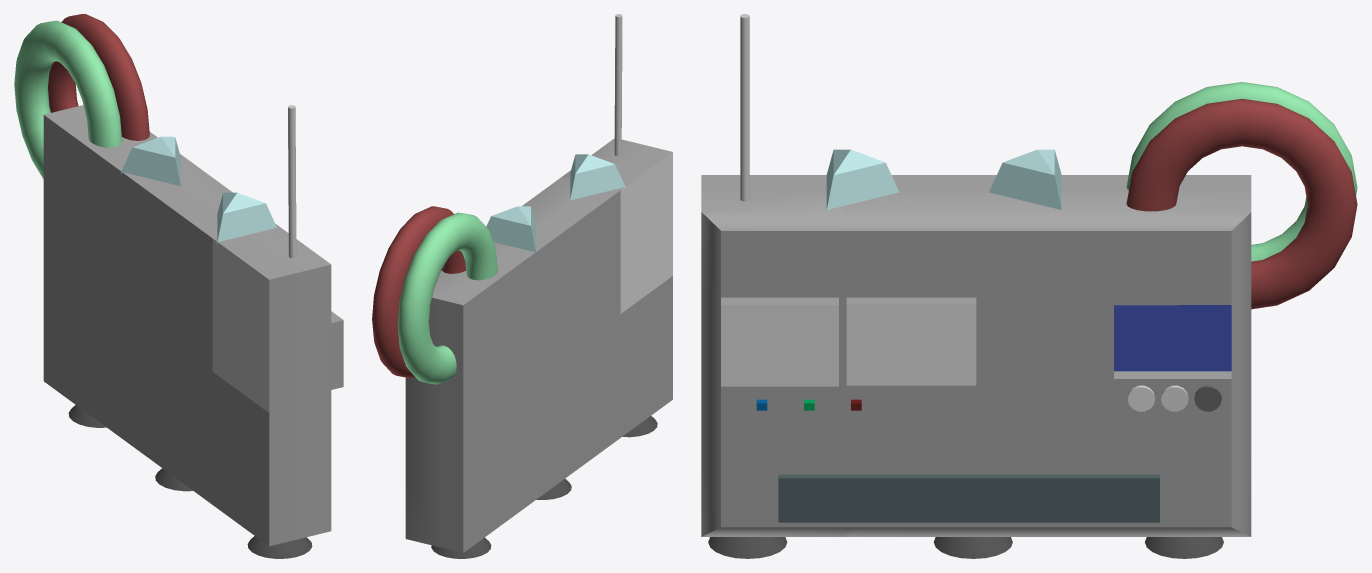
File: LotionCaptureModulator.fbx
The picture shows the model from 3 angles, left to right: view 1: azimuth 30°, elevation 25°; view 2: azimuth 150°, elevation 25°; view 3: azimuth 270°, elevation 25°; orthographic projection. The views are drawn at different scales.
Parts seen in each view (by area): view 1: LotionCaptureModulator2, LotionCaptureModulator:pTorus1, LotionCaptureModulator:pTorus2, LotionCaptureModulator:pSphere1, LotionCaptureModulator:pSphere2, LotionCaptureModulator:pCylinder4, LotionCaptureModulator:pCone1, LotionCaptureModulator:pCone3, LotionCaptureModulator:pCone2; view 2: LotionCaptureModulator2, LotionCaptureModulator:pTorus1, LotionCaptureModulator:pTorus2, LotionCaptureModulator:pSphere1, LotionCaptureModulator:pSphere2, LotionCaptureModulator:pCylinder4, LotionCaptureModulator:pCone2; view 3: LotionCaptureModulator2, LotionCaptureModulator:pTorus2, LotionCaptureModulator:pCube5, LotionCaptureModulator:pTorus1, LotionCaptureModulator:pSphere1, LotionCaptureModulator:pSphere2, LotionCaptureModulator:pCylinder4, LotionCaptureModulator:pCone1, LotionCaptureModulator:pCone2, LotionCaptureModulator:pCone3.
Part boxes in pixels (x1,y1,x2,y2): LotionCaptureModulator2: (43, 105, 343, 546); LotionCaptureModulator:pTorus1: (14, 20, 122, 178); LotionCaptureModulator:pTorus2: (48, 14, 149, 140); LotionCaptureModulator:pSphere1: (217, 192, 276, 243); LotionCaptureModulator:pSphere2: (121, 136, 180, 186); LotionCaptureModulator:pCylinder4: (288, 105, 296, 258); LotionCaptureModulator:pCone1: (247, 536, 312, 558); LotionCaptureModulator:pCone3: (155, 468, 192, 491); LotionCaptureModulator:pCone2: (68, 405, 106, 427); LotionCaptureModulator2: (405, 138, 672, 552); LotionCaptureModulator:pTorus1: (397, 212, 497, 384); LotionCaptureModulator:pTorus2: (372, 206, 466, 377); LotionCaptureModulator:pSphere1: (570, 154, 625, 200); LotionCaptureModulator:pSphere2: (486, 206, 536, 253); LotionCaptureModulator:pCylinder4: (614, 14, 622, 156); LotionCaptureModulator:pCone2: (431, 537, 491, 558); LotionCaptureModulator2: (701, 175, 1251, 536); LotionCaptureModulator:pTorus2: (1126, 98, 1357, 309); LotionCaptureModulator:pCube5: (778, 474, 1159, 522); LotionCaptureModulator:pTorus1: (1126, 82, 1357, 261); LotionCaptureModulator:pSphere1: (826, 149, 898, 209); LotionCaptureModulator:pSphere2: (989, 149, 1061, 209); LotionCaptureModulator:pCylinder4: (740, 14, 749, 201); LotionCaptureModulator:pCone1: (708, 537, 787, 558); LotionCaptureModulator:pCone2: (1145, 537, 1223, 558); LotionCaptureModulator:pCone3: (933, 537, 1012, 558).
Bounding box in the file's own units: 0.3881 × 1.94 × 2.17.
